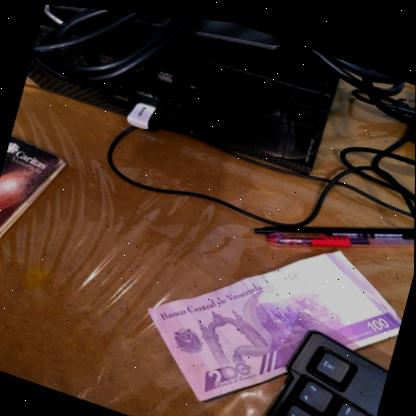one_hundred-back-vef: (130, 185, 415, 416)
